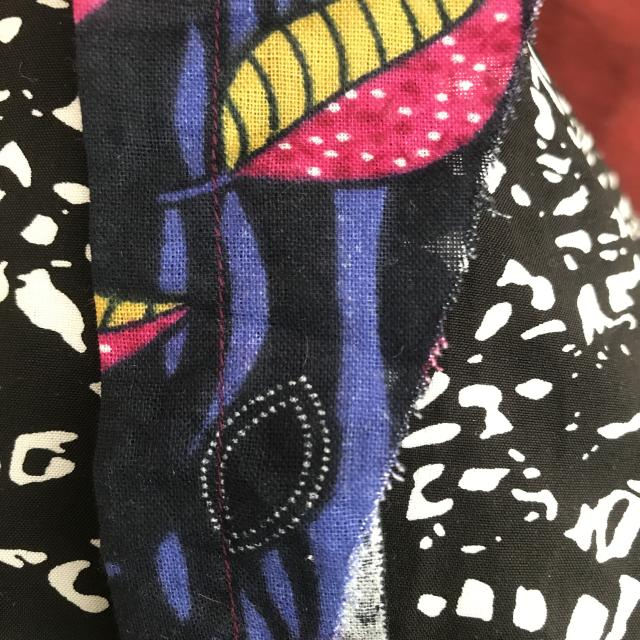good: (197, 206, 246, 406), (199, 21, 229, 169)
